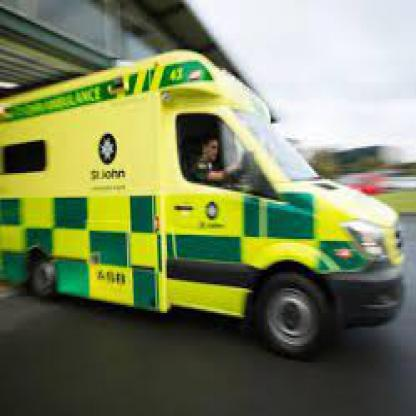Ambulance - v1 Ambulance last generate: (0, 59, 410, 369)
